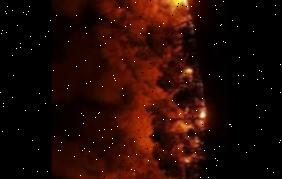fire: (176, 62, 208, 169), (164, 0, 194, 20)
